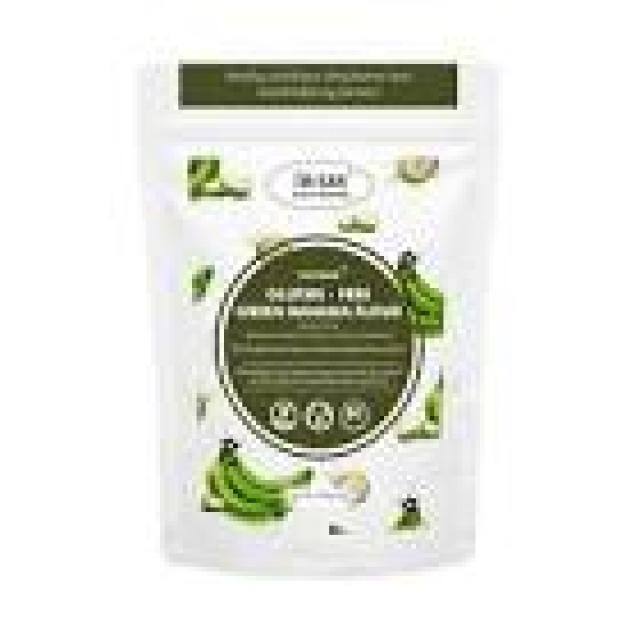banana: (206, 439, 310, 521), (220, 439, 310, 493), (206, 462, 283, 521), (220, 458, 287, 516), (394, 499, 425, 530)
